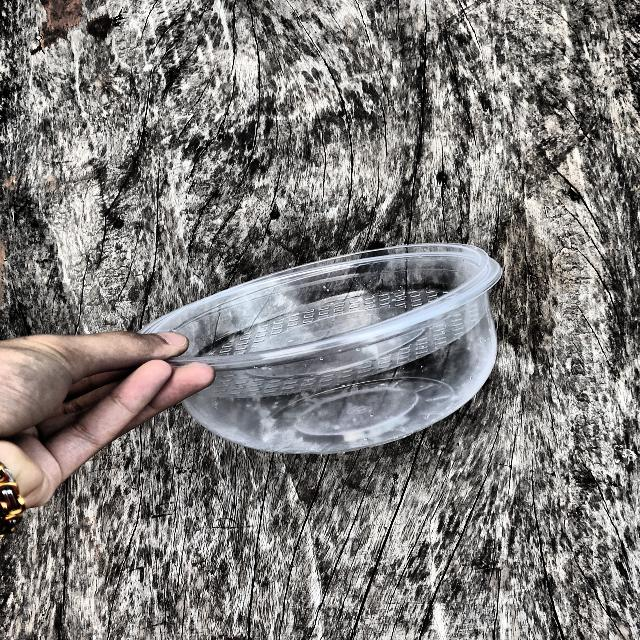plastic container: (115, 208, 531, 480)
